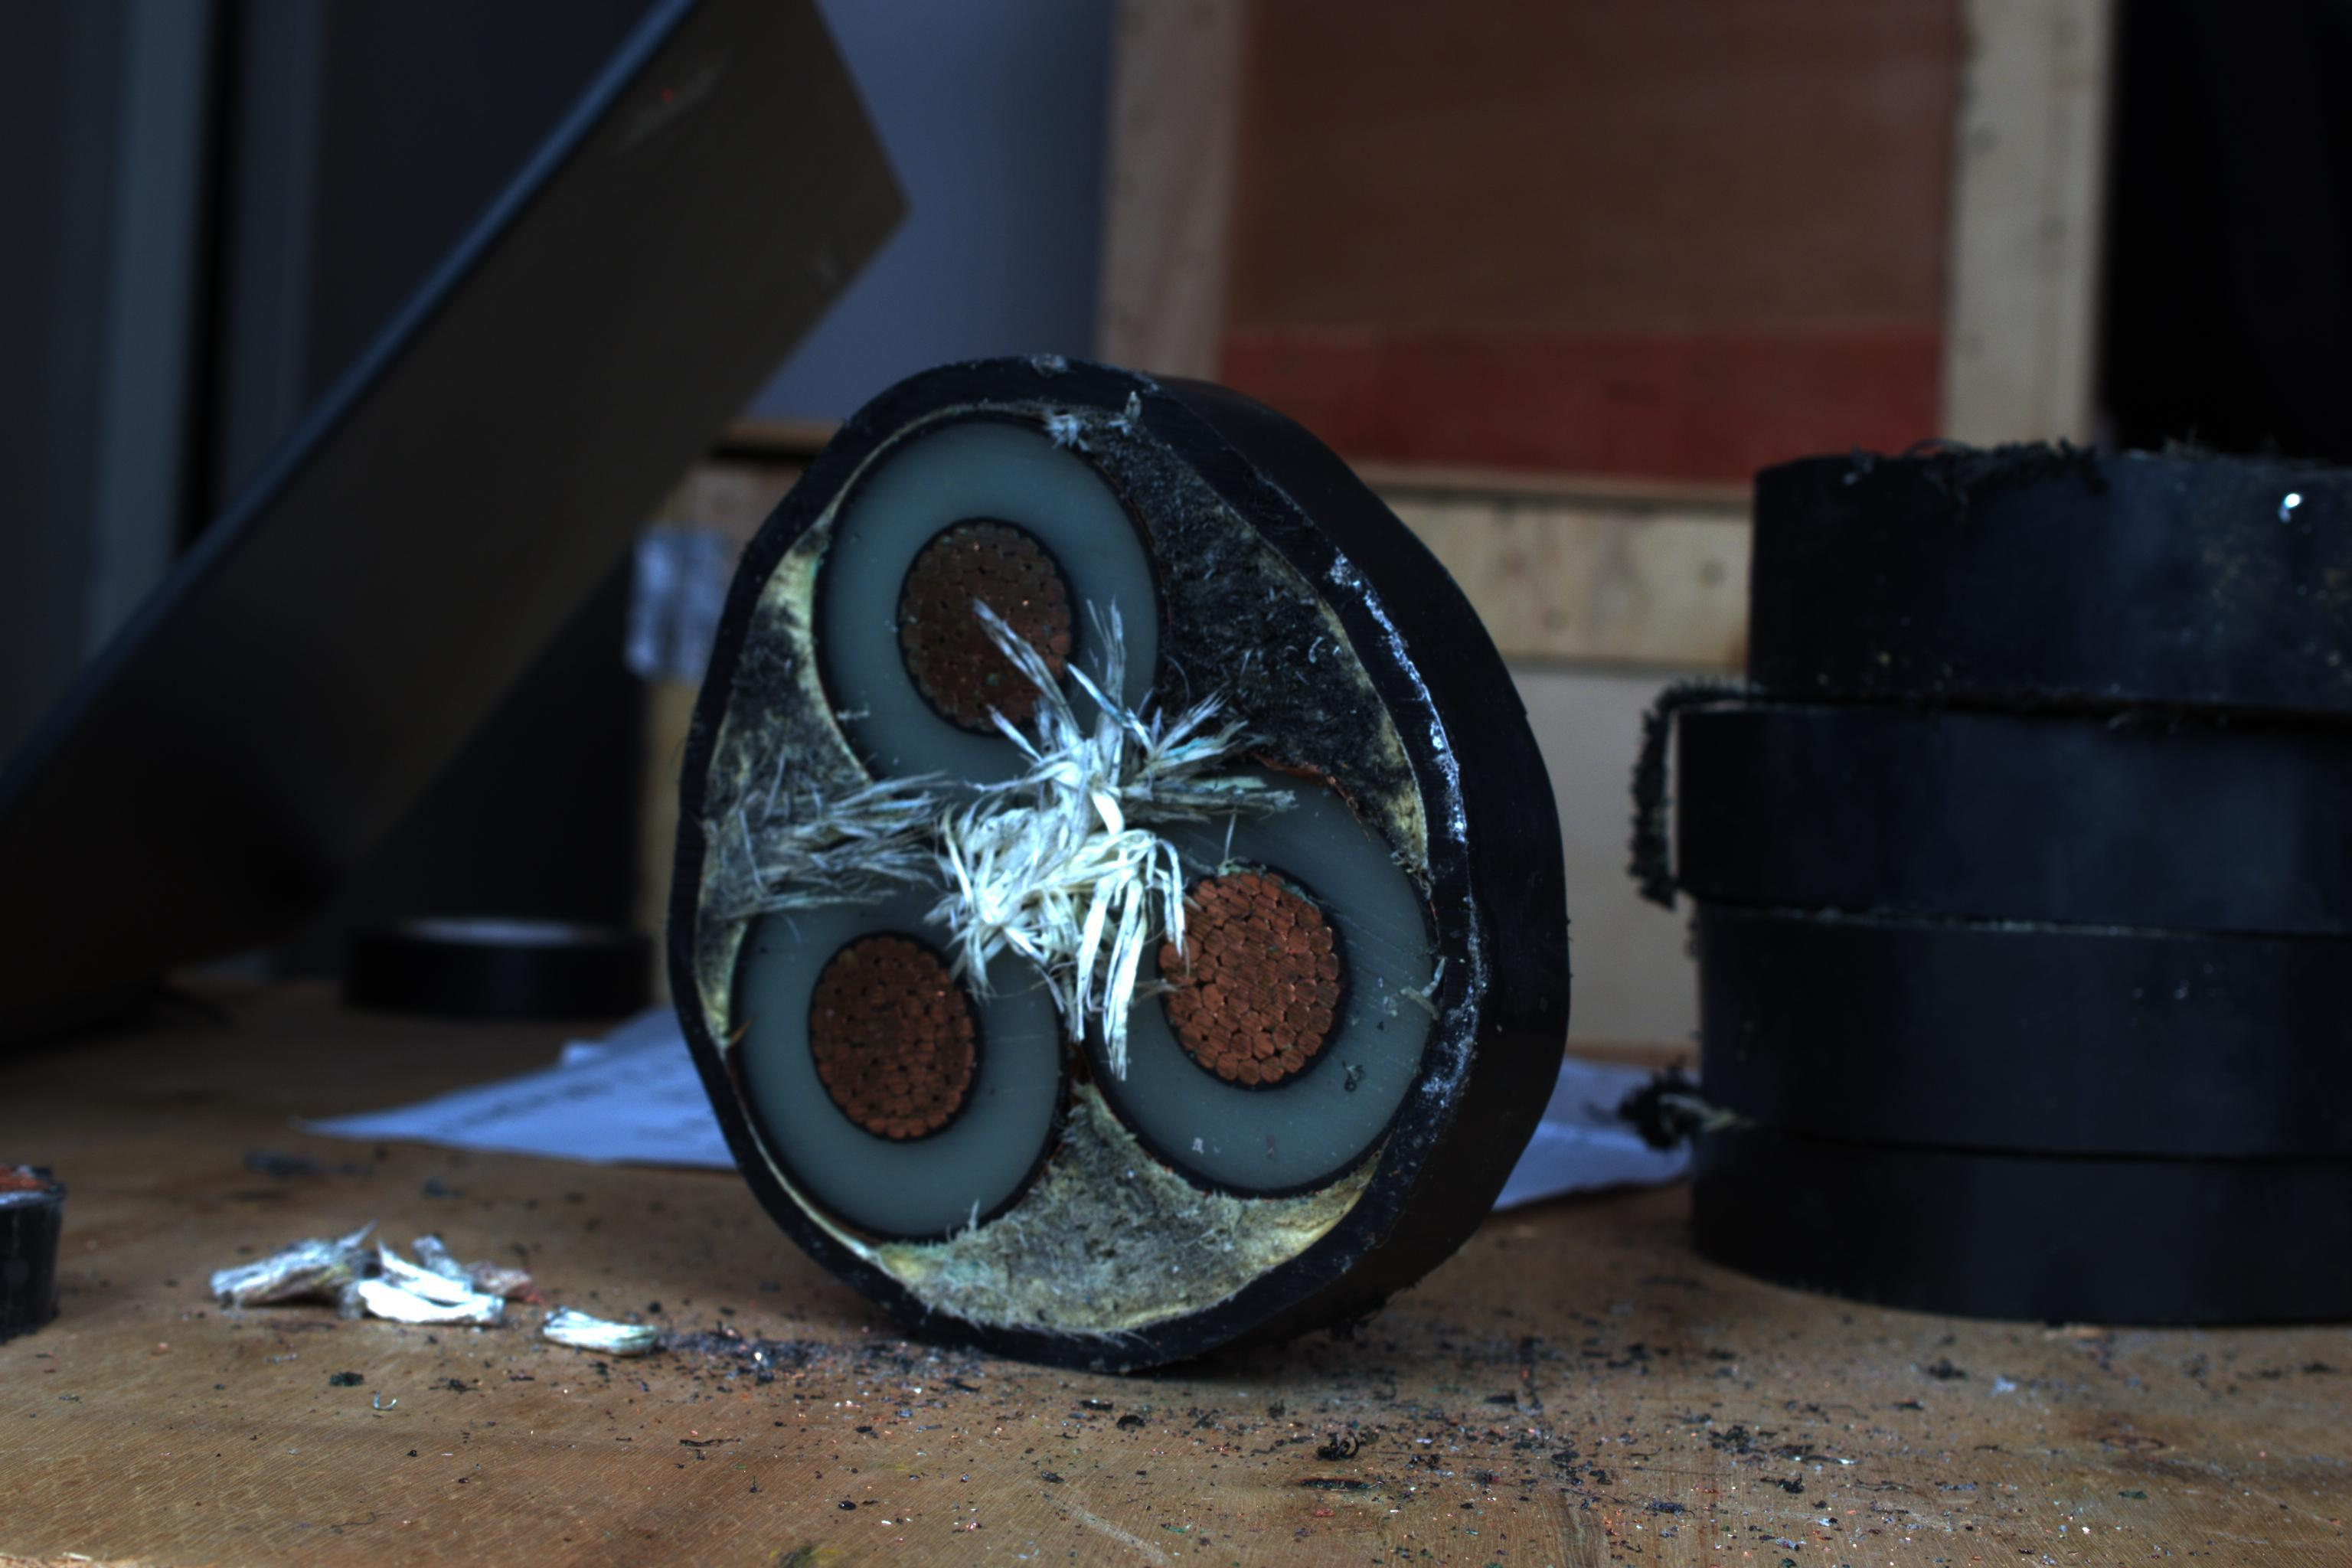ZA_YJV_26_35kV_3x400: (688, 350, 1463, 1374)
